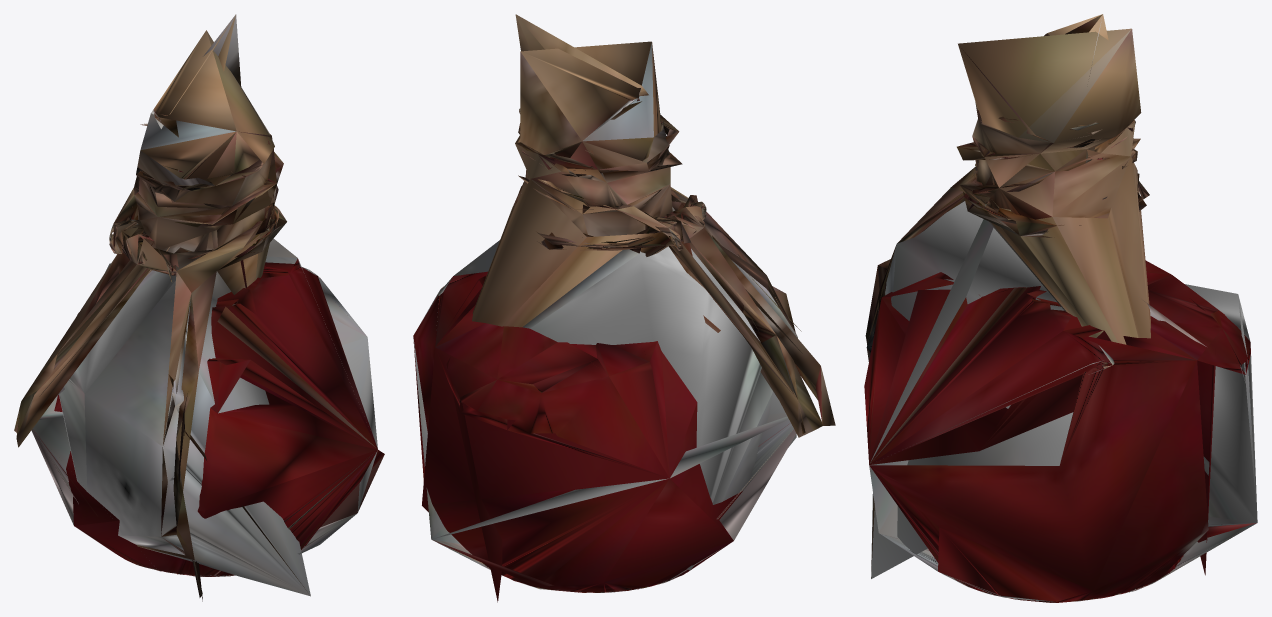
File: pocao_vida.glb
The picture shows the model from 3 angles, left to right: view 1: azimuth 30°, elevation 25°; view 2: azimuth 150°, elevation 25°; view 3: azimuth 270°, elevation 25°; orthographic projection. The views are drawn at different scales.
Parts seen in each view (by area): view 1: geometry_0; view 2: geometry_0; view 3: geometry_0.
Boxes of the visible parts, x1,y1,x2,y2 form: geometry_0: [14, 14, 384, 601]; geometry_0: [413, 14, 835, 602]; geometry_0: [864, 14, 1257, 602].
Size of the model in its own units: 0.7543 by 1 by 0.6041.
Materials: 1 (1 with a texture image).
